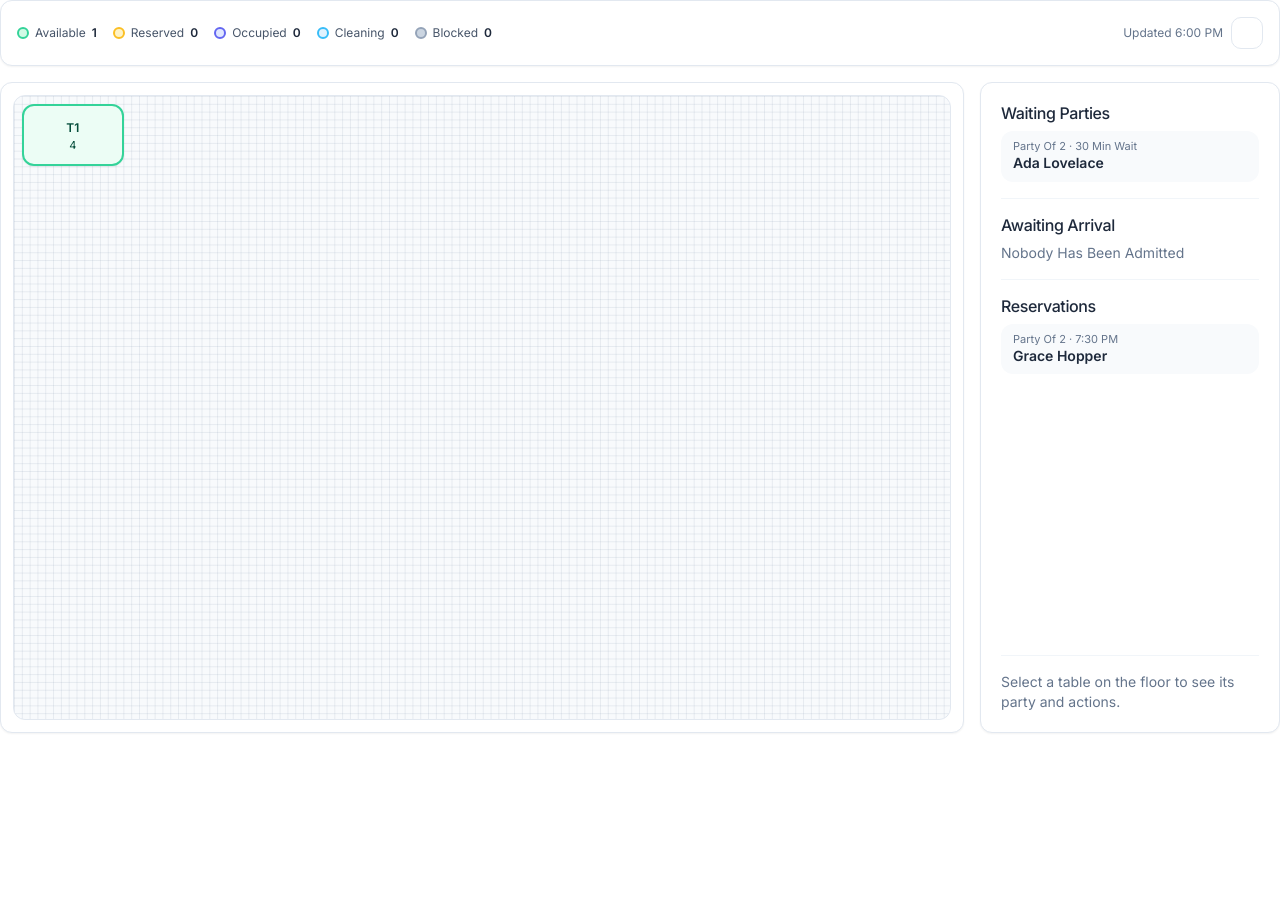
it: live floor overview › hides both lists once a table is selected
This screenshot has width=1280, height=900.
Press the mouse on the button with test id "live-table-T1" at (73,135), box [22,104,124,166]
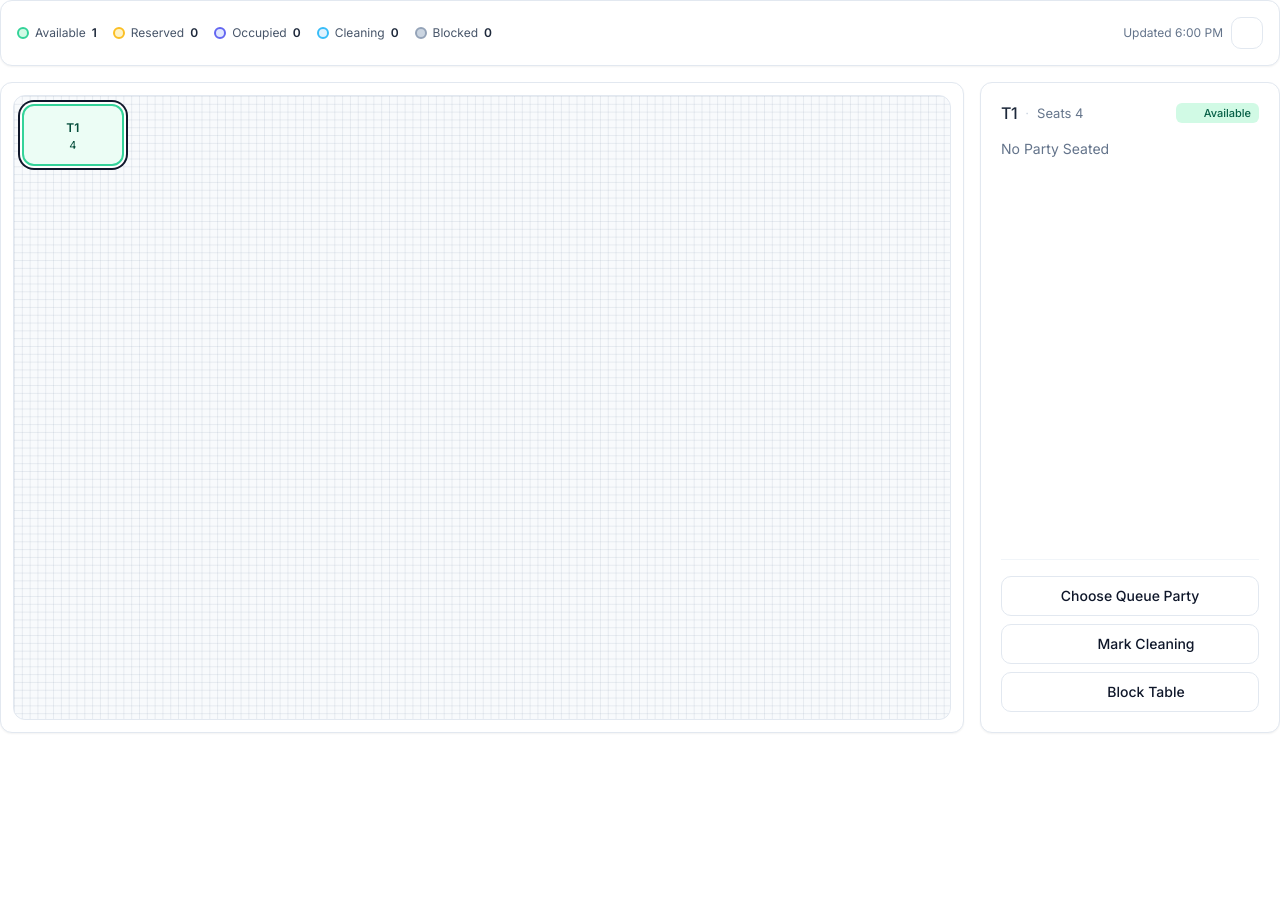
expect the element with test id "upcoming-reservations" is gone: met
expect the element with test id "waiting-parties" is gone: met
